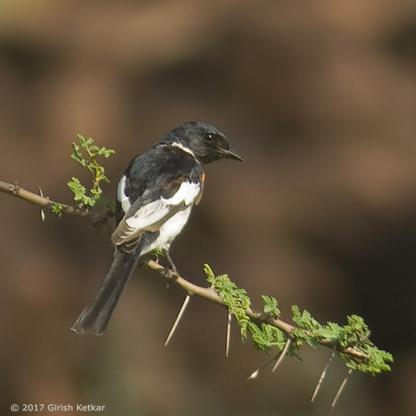Burung: (70, 122, 242, 336)
